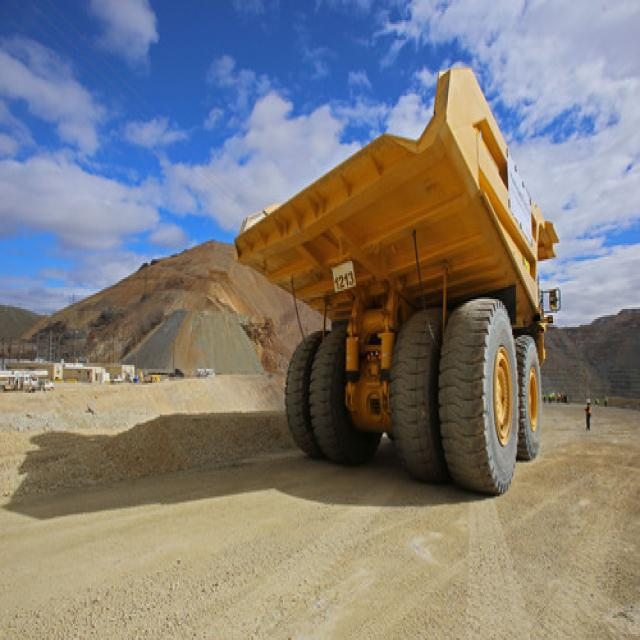dump_truck: (237, 40, 558, 516)
